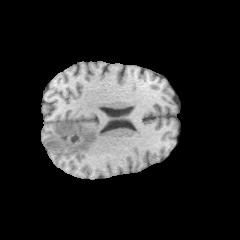glioma: (46, 122, 100, 153)
